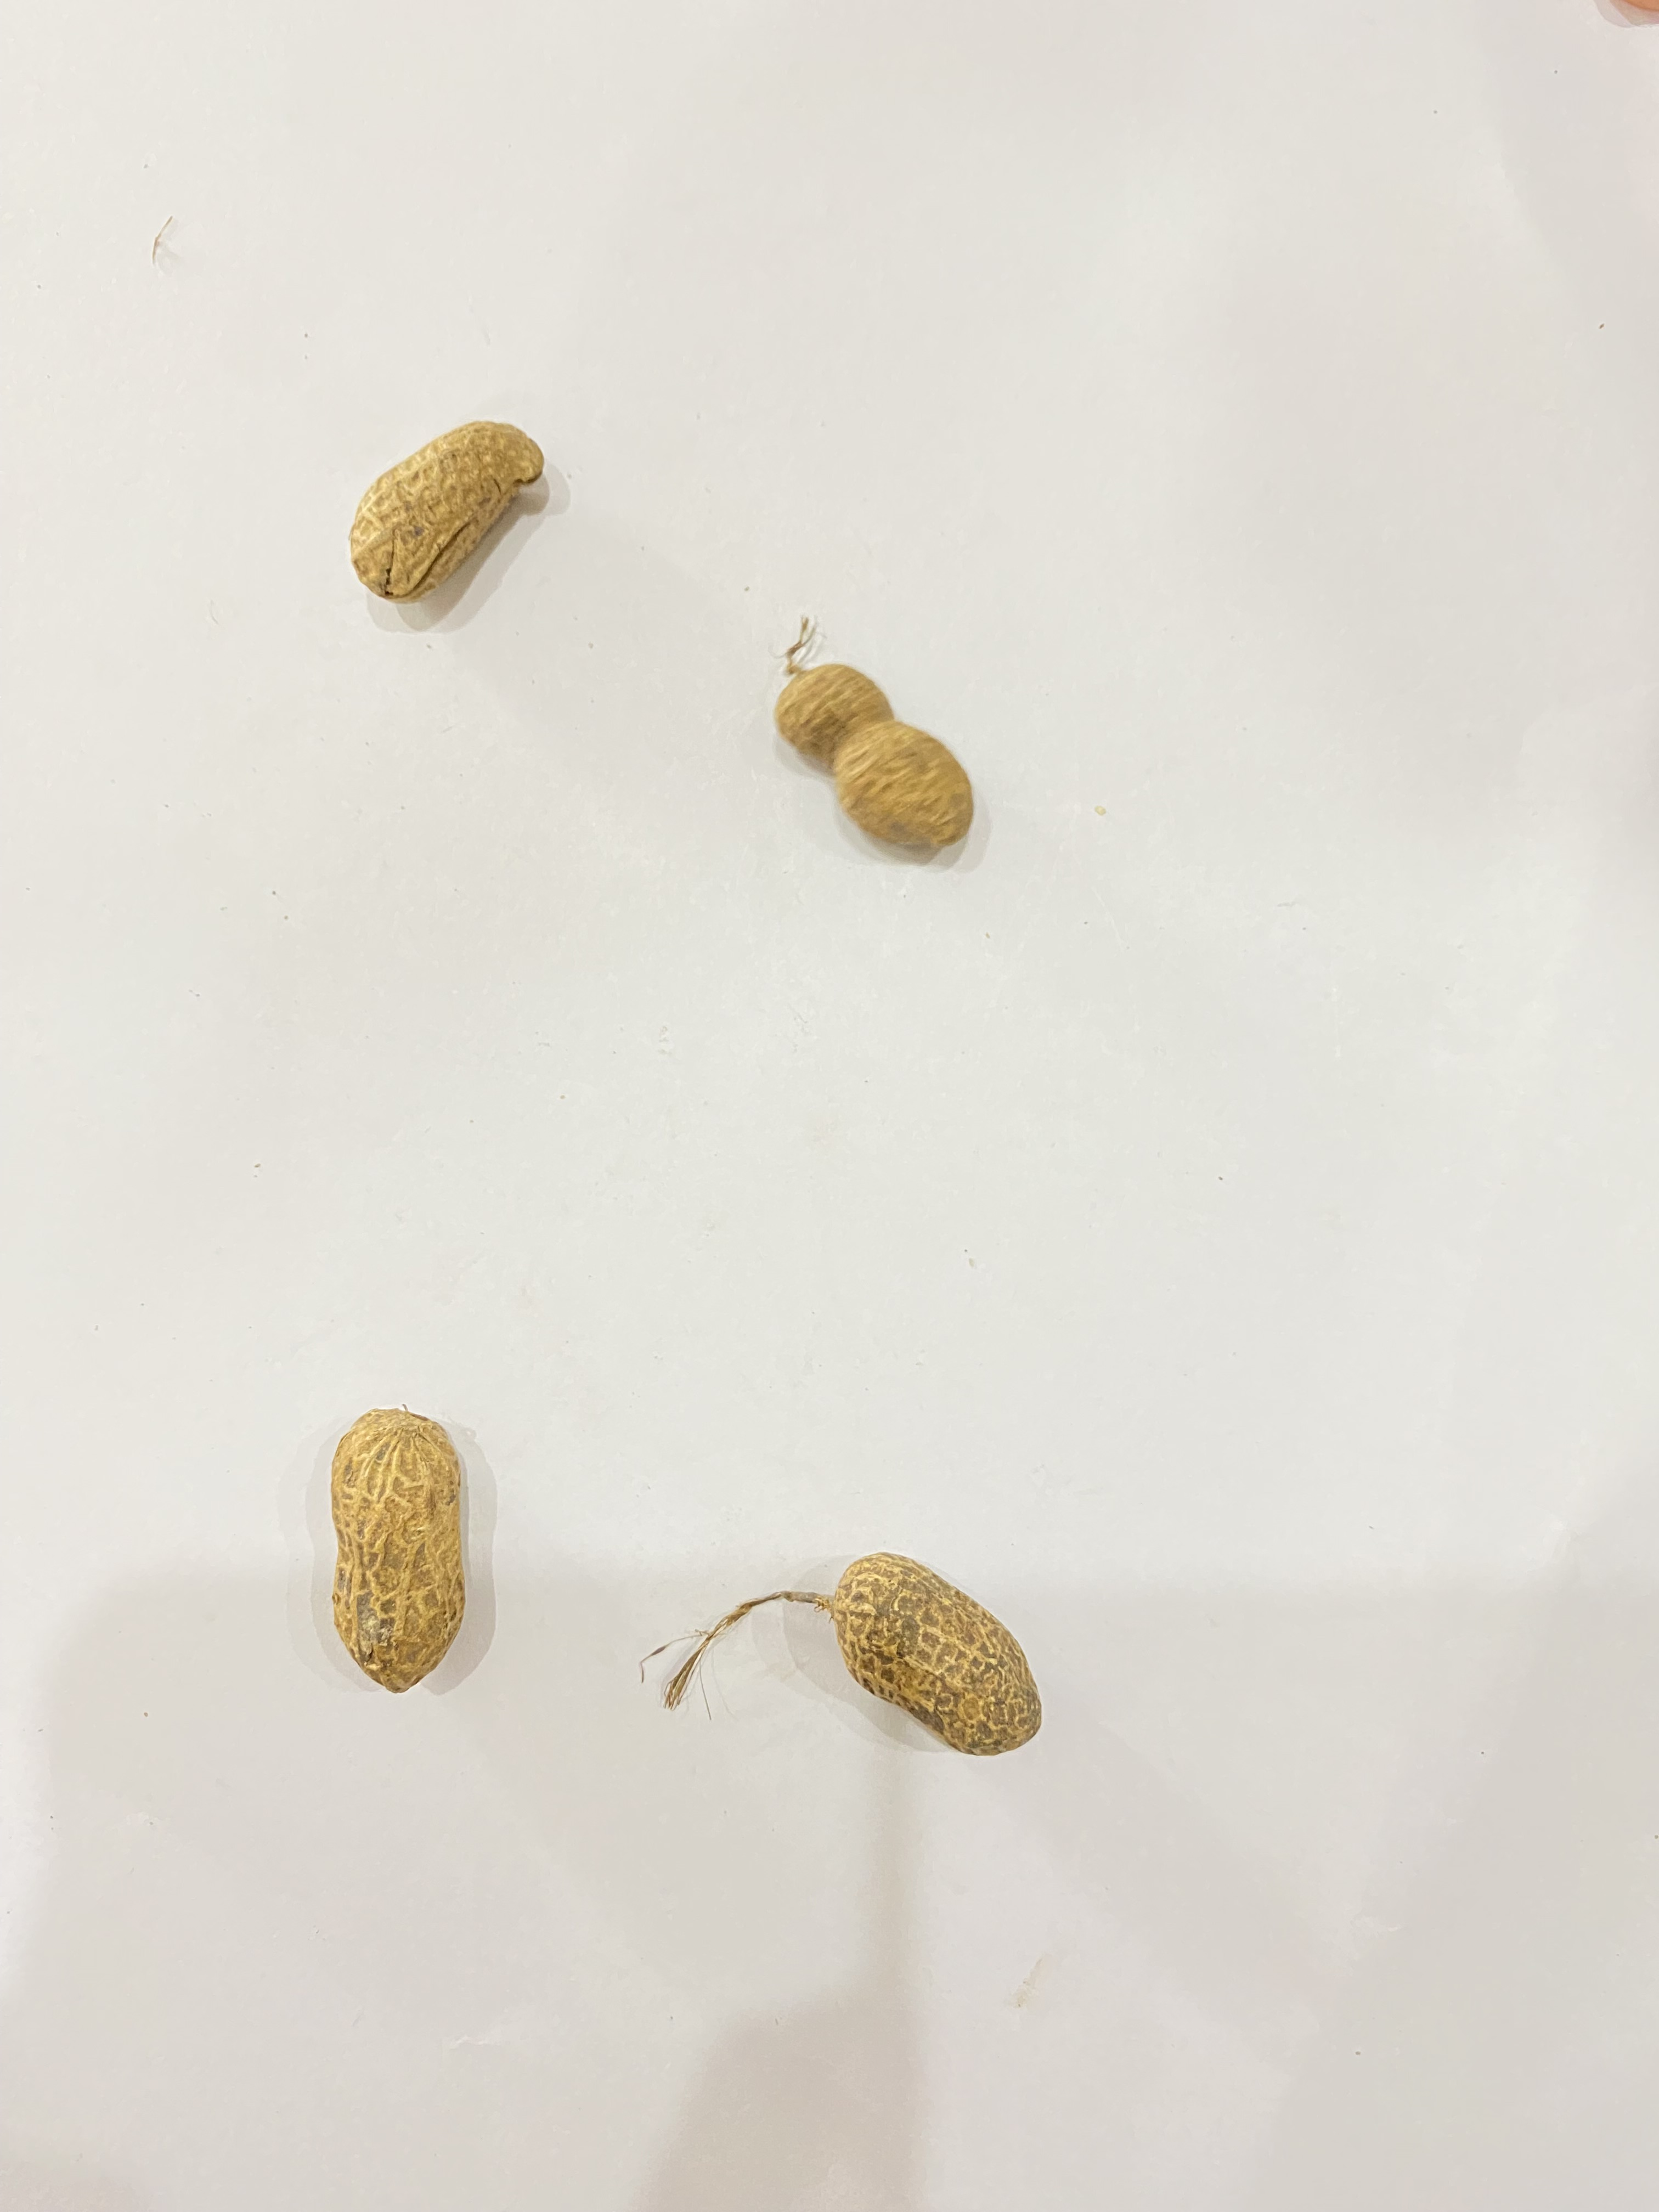kacang1: (796, 1538, 1147, 1778)
kacang2: (307, 1393, 495, 1712), (753, 664, 988, 873), (343, 399, 551, 606)
